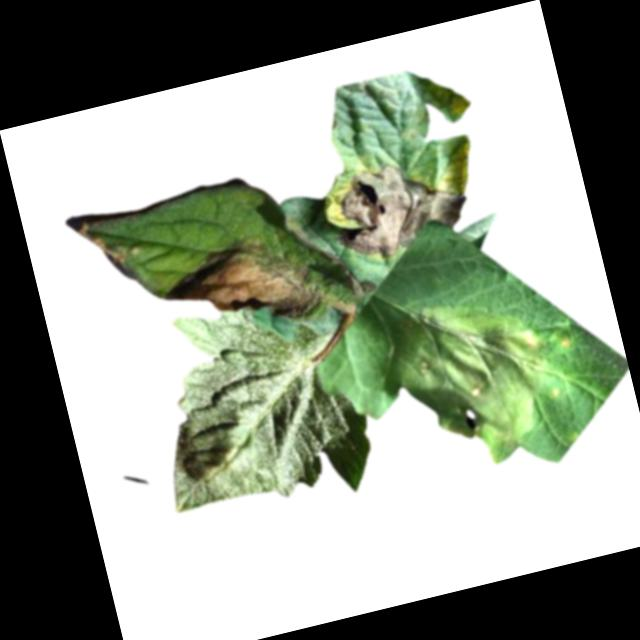Late_blight: (376, 283, 568, 483), (155, 223, 330, 348), (319, 144, 477, 269), (76, 210, 144, 288)
healthy: (129, 276, 387, 536)
